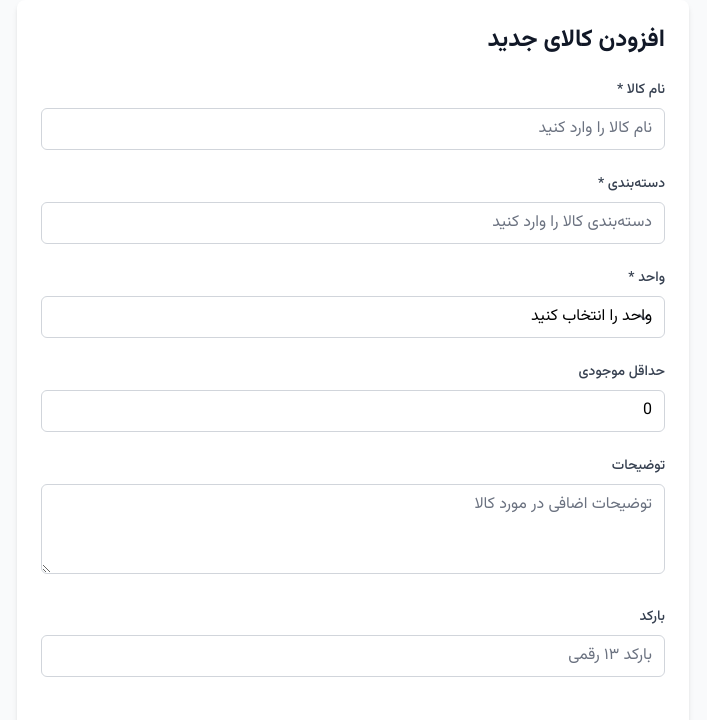
Test case: ItemForm Component › Create Mode › should validate name length
The image size is (707, 720).
Step 1. Type "A" into the field labelled "نام کالا *" → x=353, y=129, box [41,108,665,150]
(page scrolled)
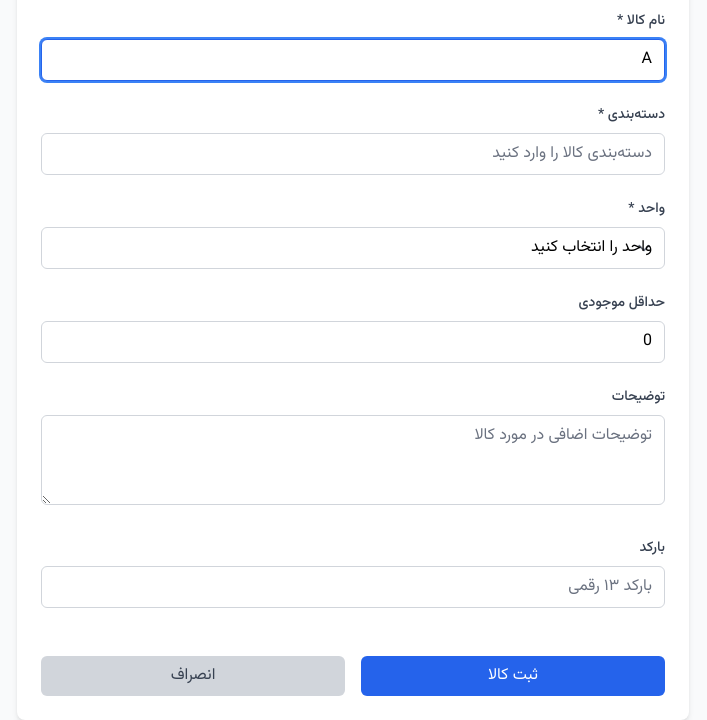
Step 2. Click the button "ثبت کالا" → x=513, y=676, box [361,656,665,696]
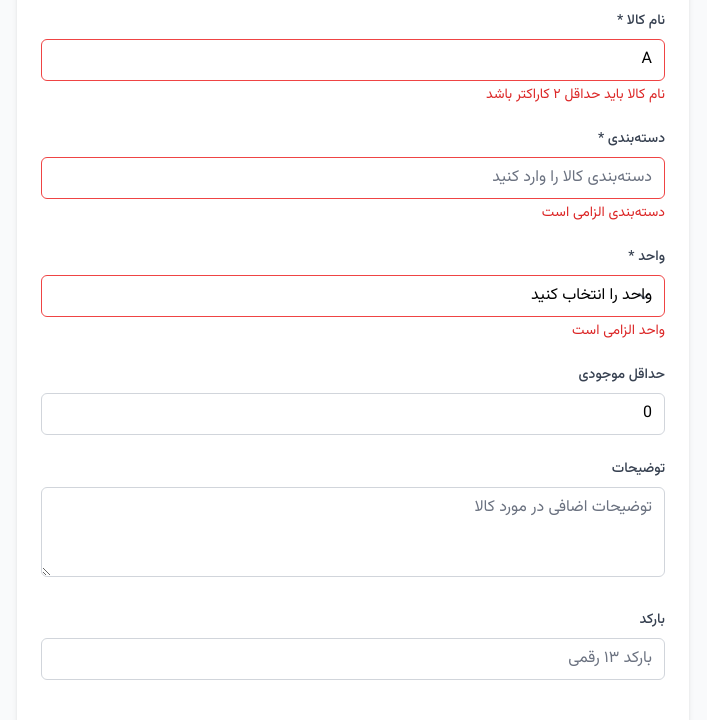
Result: the text "نام کالا باید حداقل ۲ کاراکتر باشد" is shown at [486,84,665,106]
